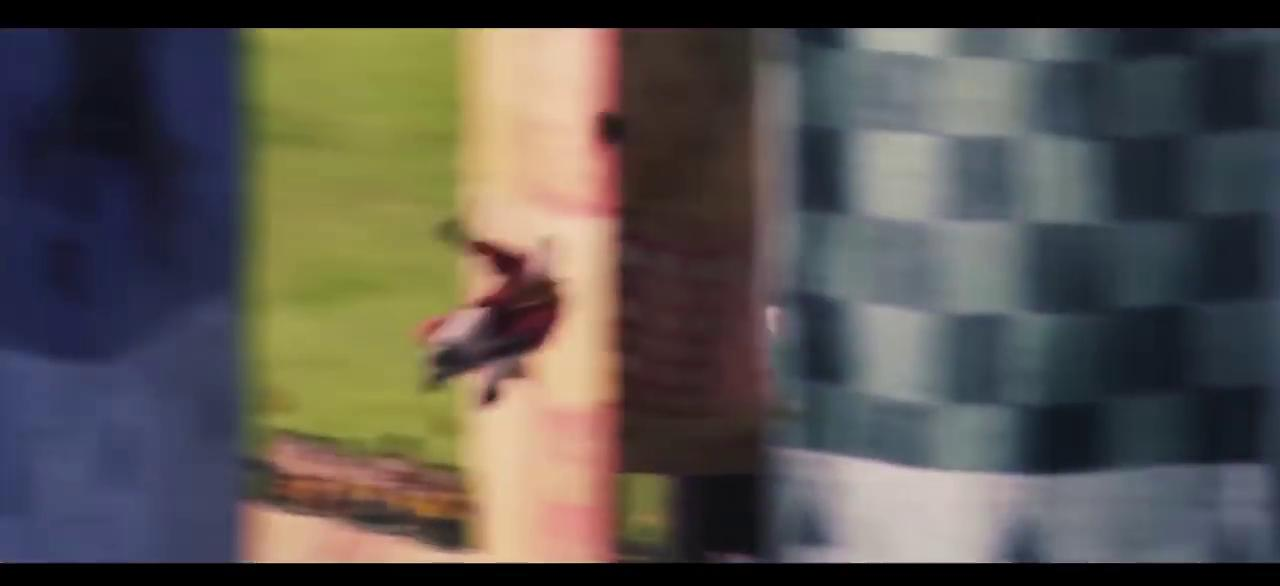quaffle: (587, 110, 634, 148)
